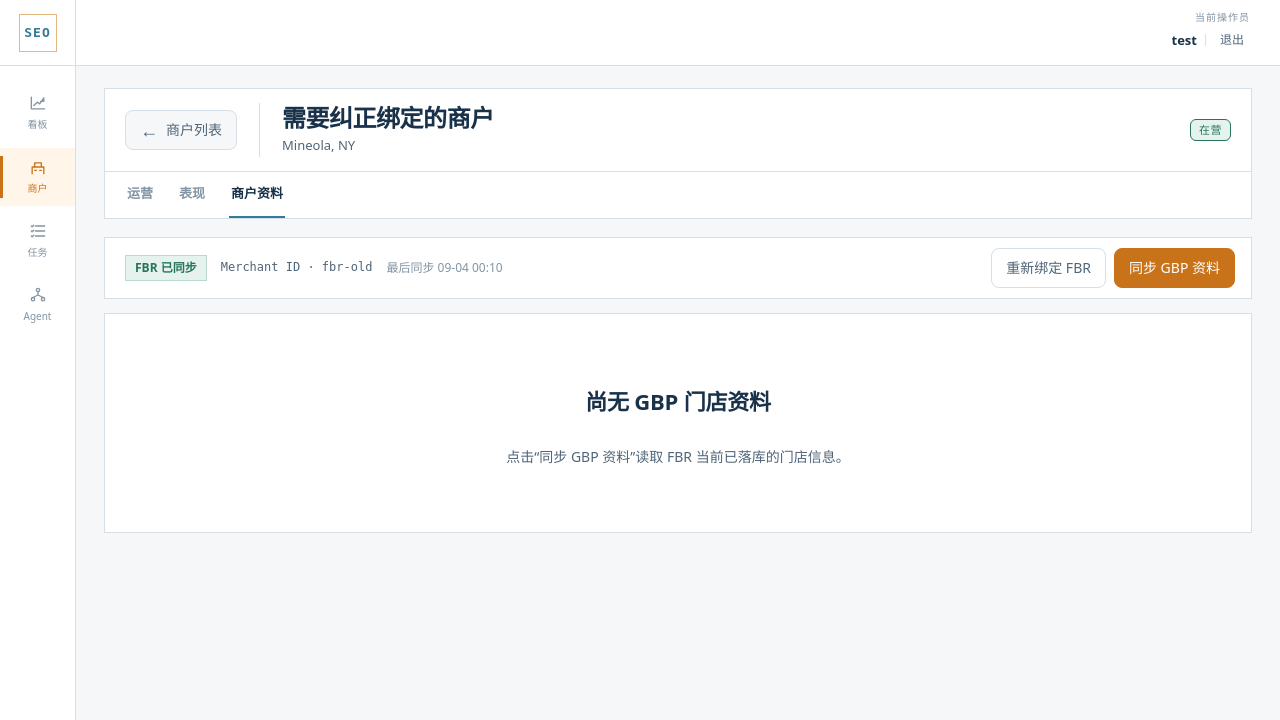
Test case: merchant lifecycle › relinks FBR only after explicit confirmation with the displayed binding CAS
The width and height of the screenshot is (1280, 720).
Click the button "重新绑定 FBR": (1049, 268) 991,248 -> 1106,288
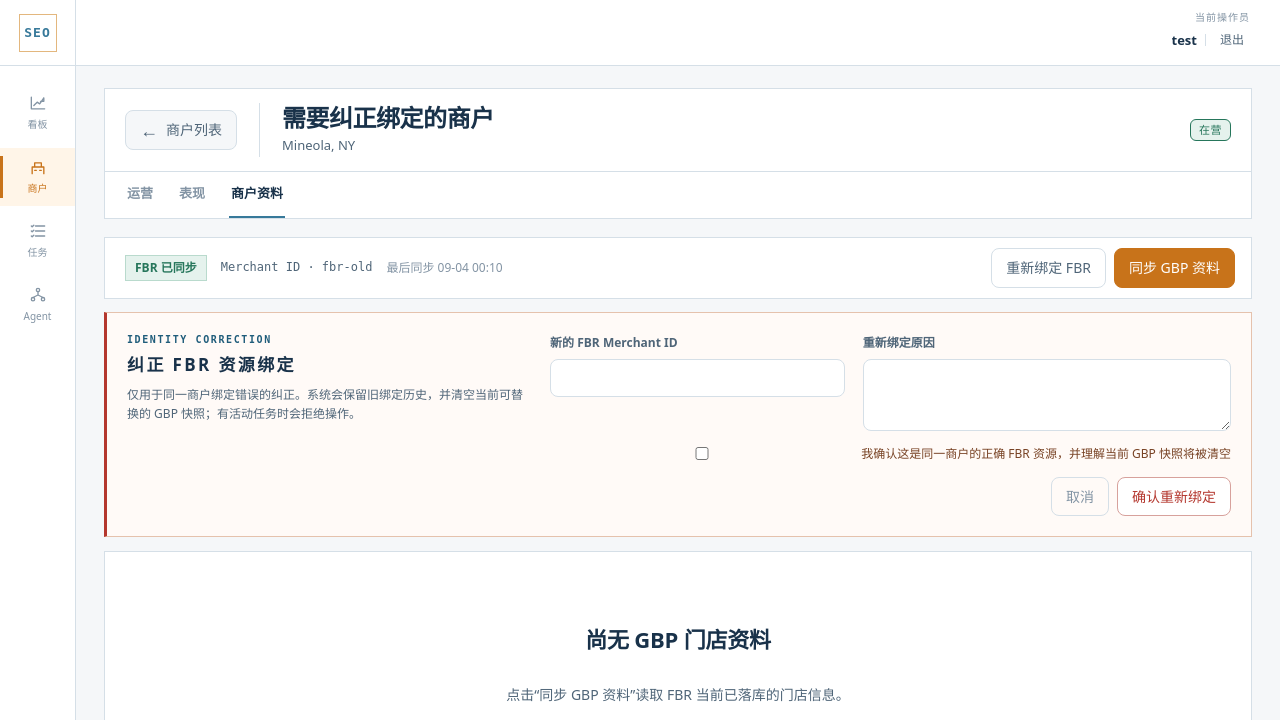
In the field labelled "新的 FBR Merchant ID": (697, 378) 550,359 -> 845,397, type "fbr-new"
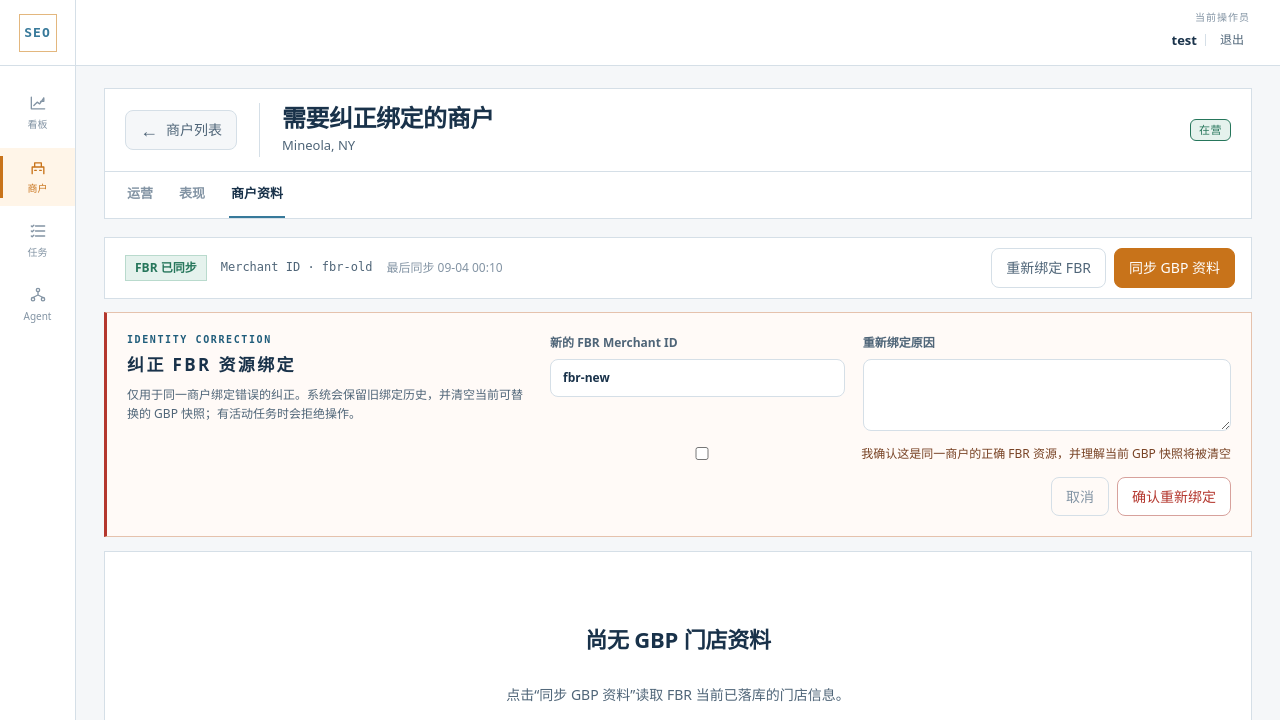
In the text box labelled "重新绑定原因": (1047, 395) 863,359 -> 1231,431, type "已与 FBR 团队核对资源 ID"
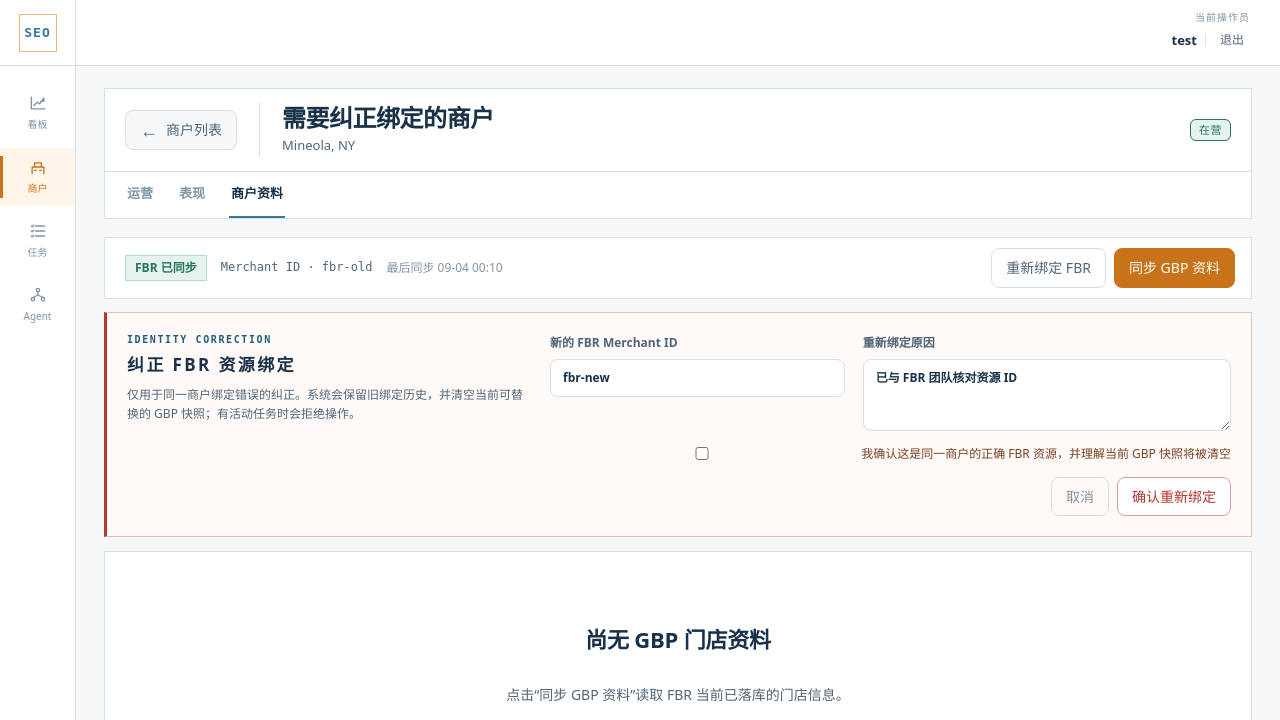
expect the button "确认重新绑定" is disabled: met, box 1117,477 -> 1231,516
Click the checkbox labelled "我确认这是同一商户的正确 FBR 资源，并理解当前 GBP 快照将被清空": (702, 453) 554,447 -> 850,460
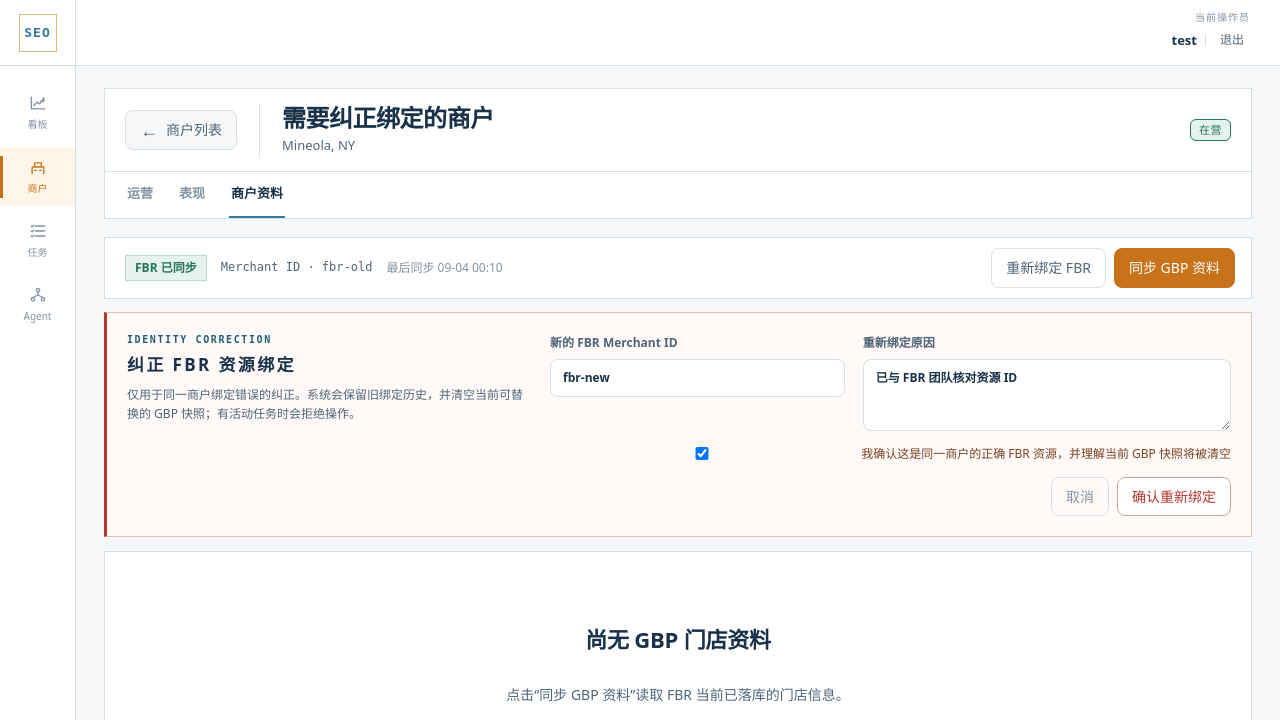
Click the button "确认重新绑定": (1174, 496) 1117,477 -> 1231,516
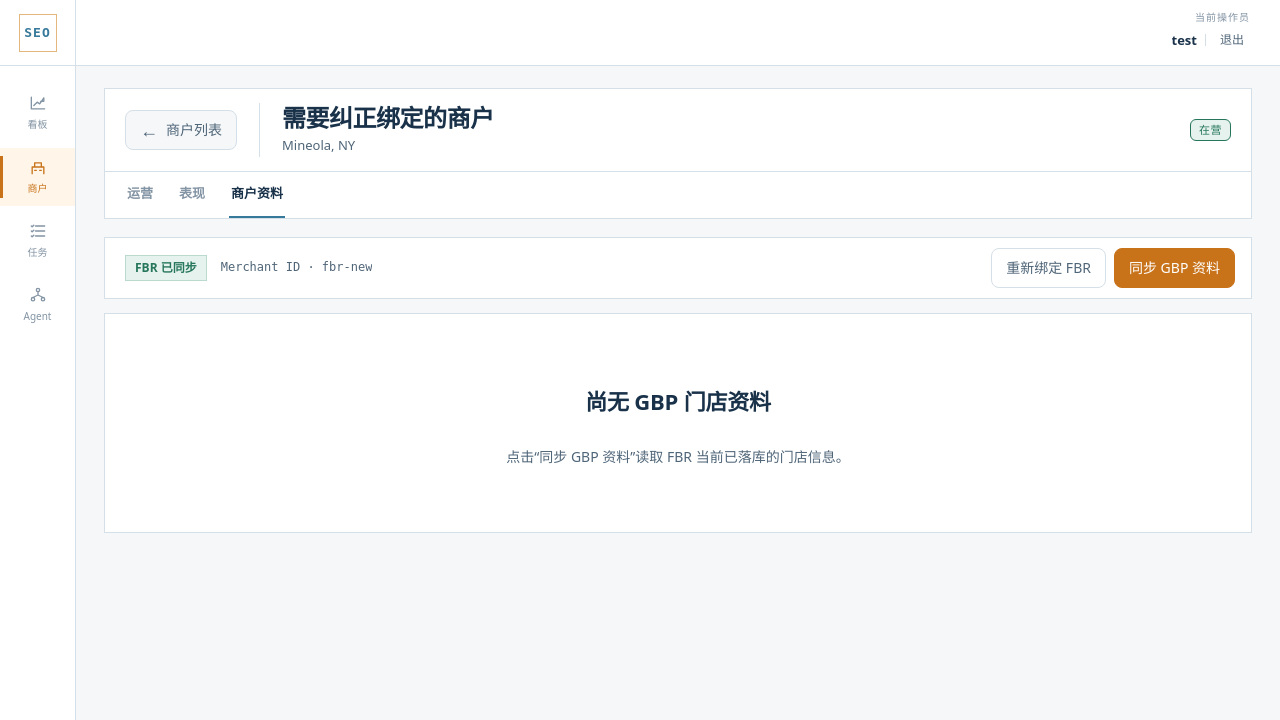
expect the text "Merchant ID · fbr-new" is shown: met, box 221,258 -> 372,278
